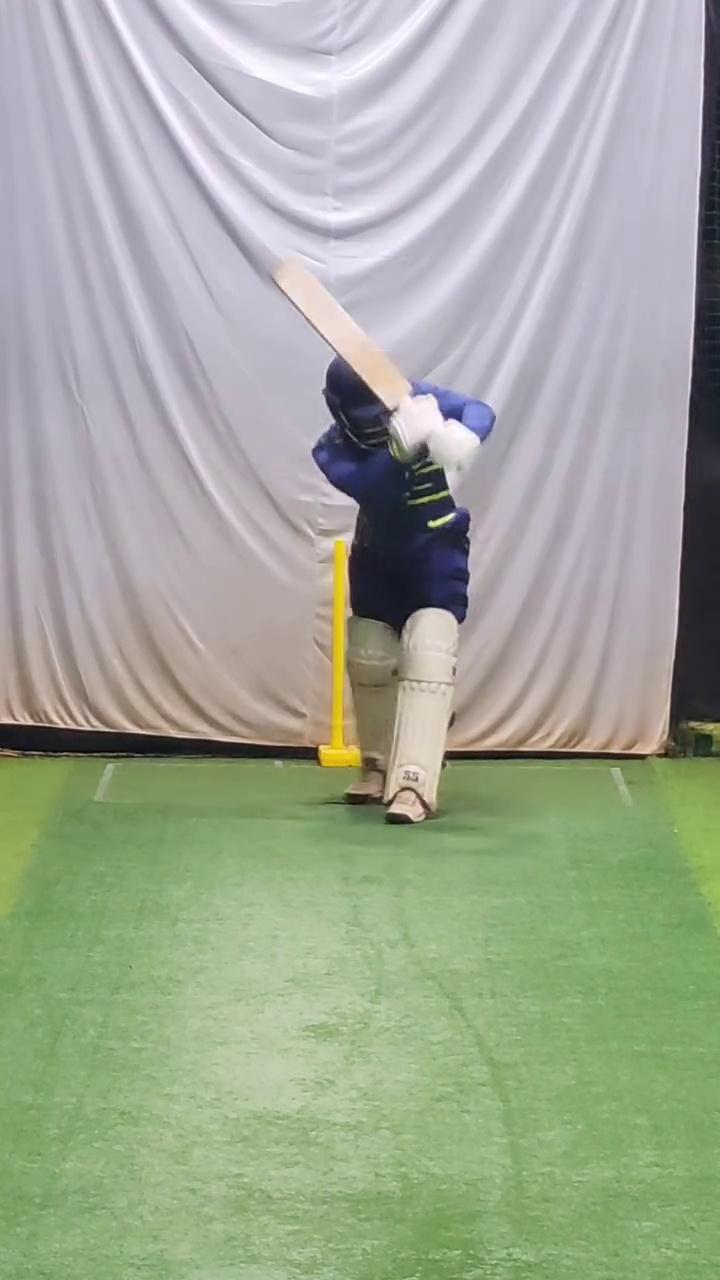bat: (267, 252, 416, 415)
